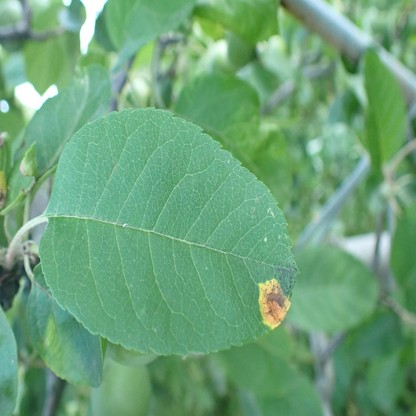rust: (258, 280, 291, 329)
scab: (40, 320, 86, 380)
